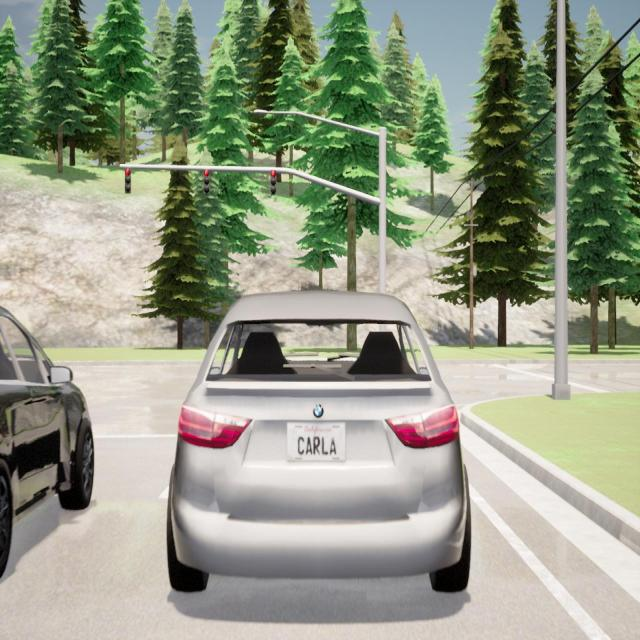Vehicle: (167, 292, 471, 592), (0, 308, 93, 577)
traffic_light: (269, 170, 277, 196), (203, 168, 210, 196), (125, 167, 131, 194)
